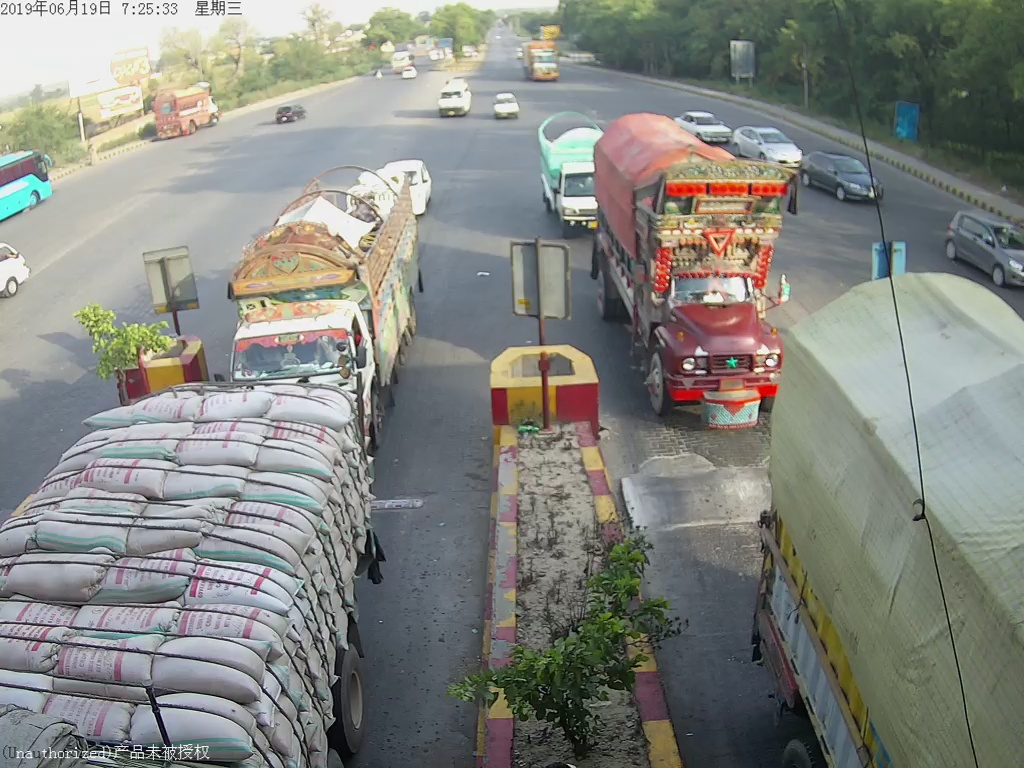Cat-4: (595, 138, 769, 419), (224, 172, 438, 364)
